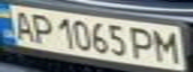0: (69, 18, 93, 52)
1: (51, 16, 75, 50)
5: (106, 21, 130, 59)
6: (87, 20, 109, 55)
A: (6, 7, 39, 42)
M: (151, 28, 184, 64)
P: (127, 25, 160, 61), (27, 11, 57, 45)
